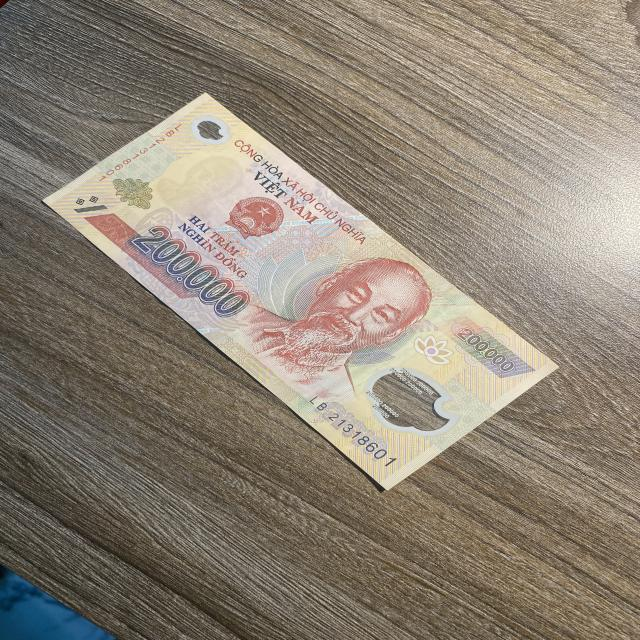200 000 VND: (42, 90, 560, 493)
